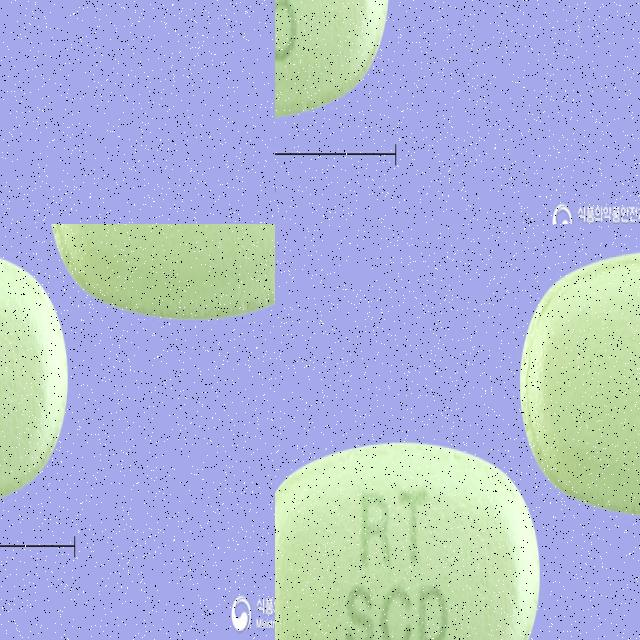Qsymia Cap: (0, 305, 129, 510)
Revloxin Tab: (275, 440, 539, 640), (519, 248, 640, 518)
Supric Cap: (275, 0, 480, 181)
